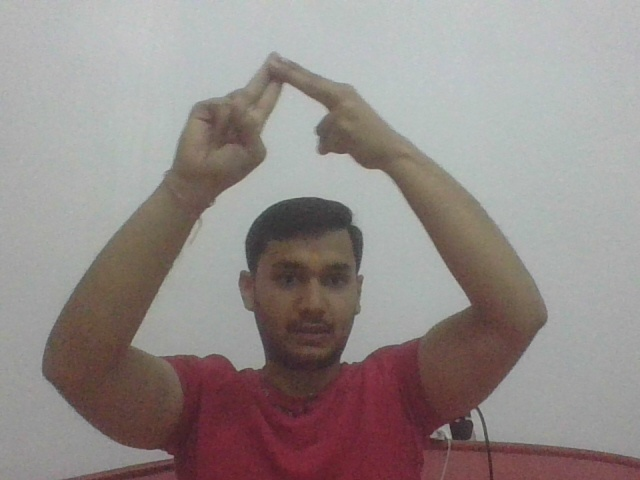F: (175, 51, 394, 172)
